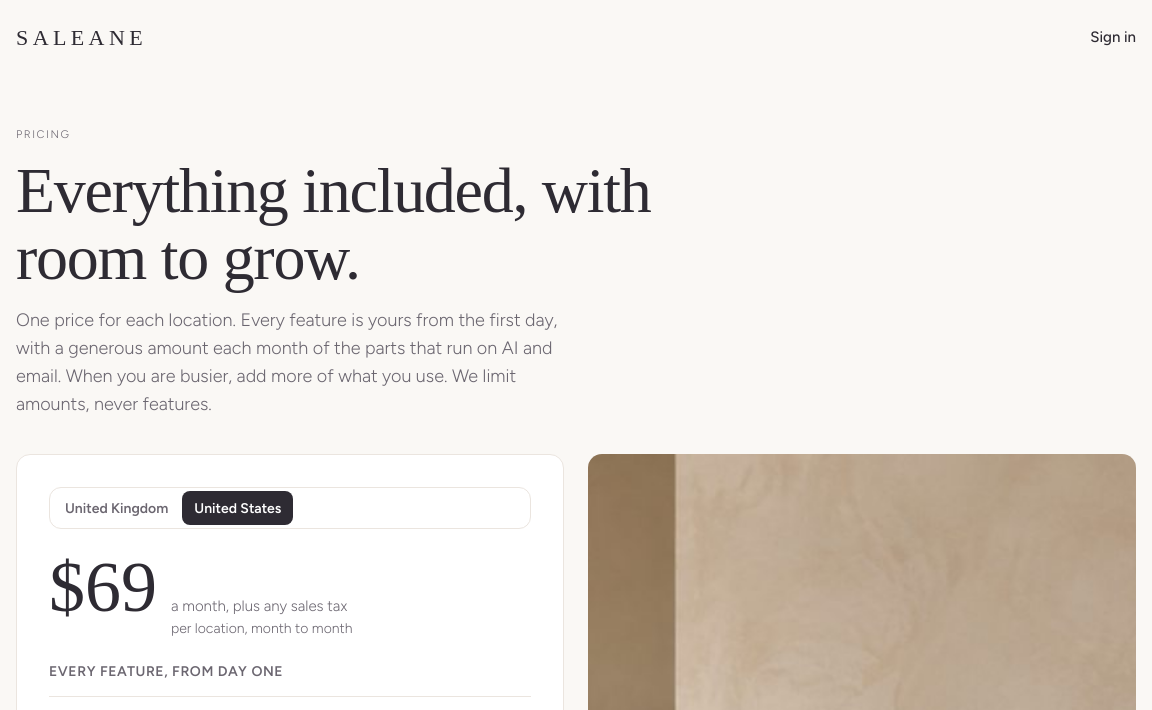
Scenario: lists how a location grows, with prices, and nothing that unlocks a feature
Click the radio button labelled "United Kingdom" at point(117, 508), box [53,491,180,525]
(page scrolled)
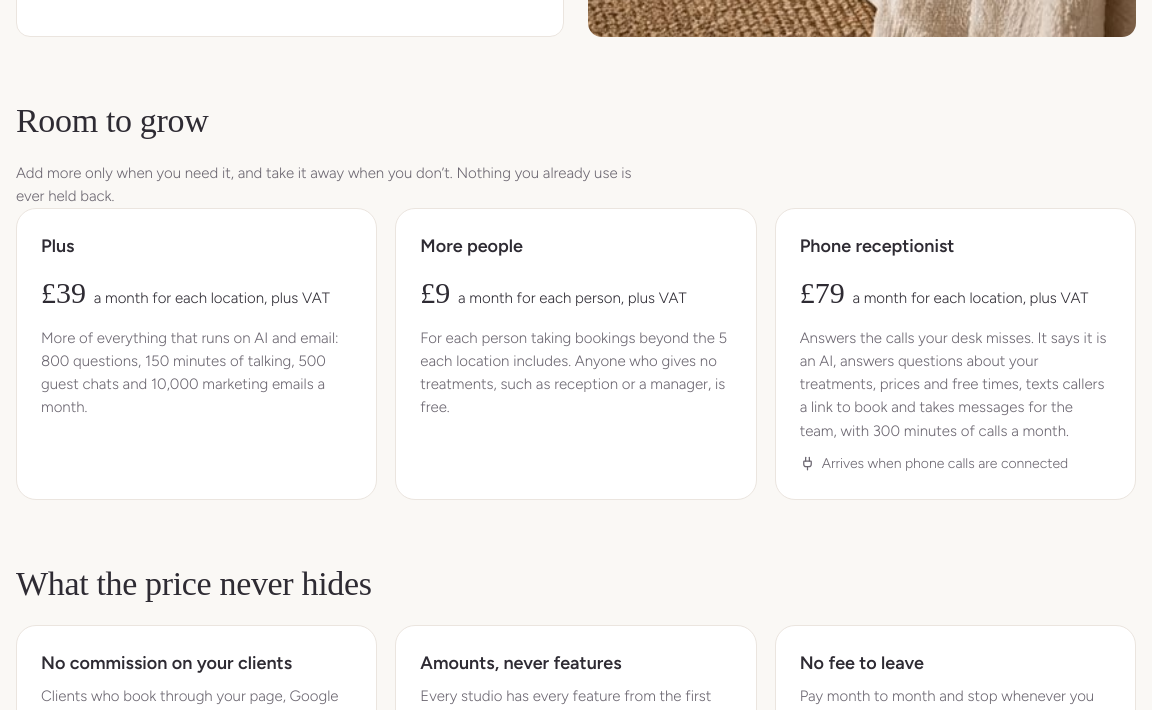
Result: the list item that starts with "Plus" shows "£39 a month for each location, plus VAT" at [16,208,377,500]
Result: the list item that starts with "More people" shows "£9 a month for each person, plus VAT" at [395,208,757,500]
Result: the list item that starts with "Phone receptionist" shows "£79 a month for each location" at [775,208,1136,500]
